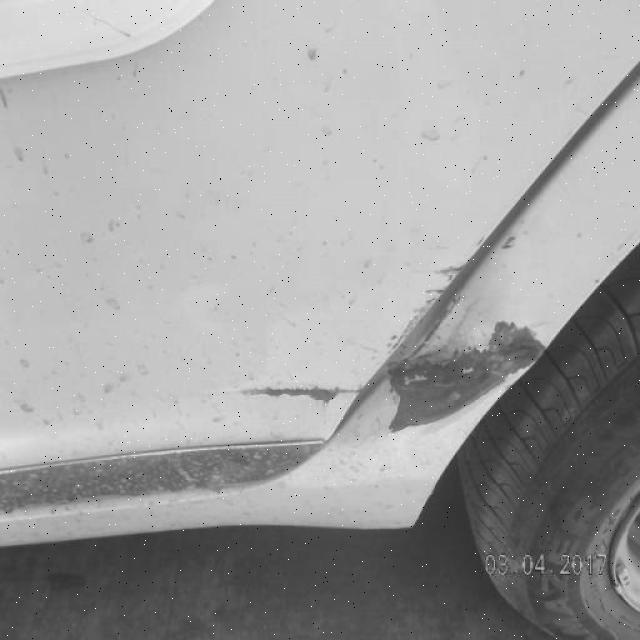car damage: (381, 305, 551, 440), (386, 230, 527, 365), (237, 368, 365, 409)
